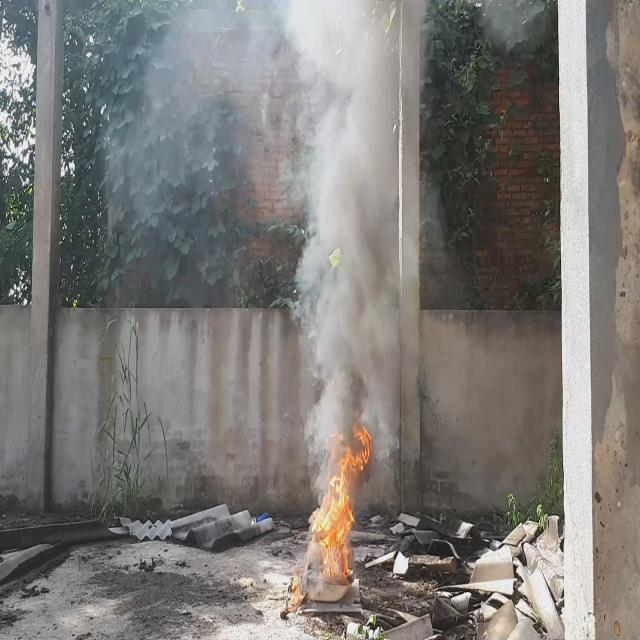Fire: (312, 426, 373, 582)
Smoke: (92, 0, 450, 478)
